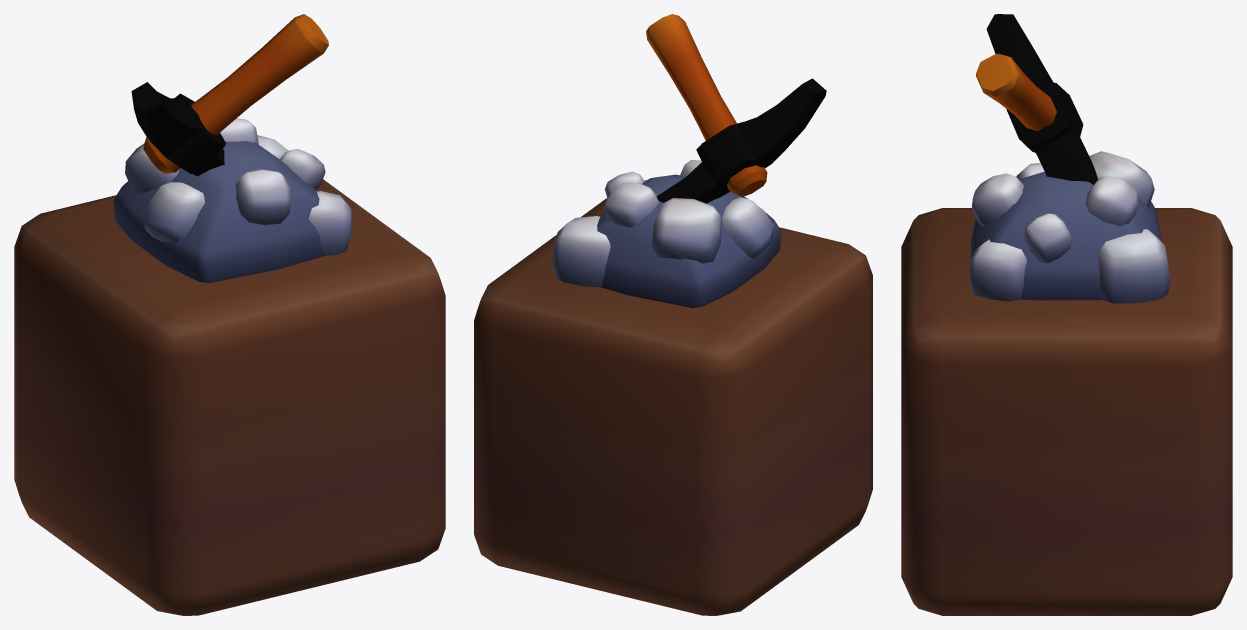
Rendered from block_silver_pickaxe.fbx.
The picture shows the model from 3 angles, left to right: view 1: azimuth 30°, elevation 25°; view 2: azimuth 150°, elevation 25°; view 3: azimuth 270°, elevation 25°; orthographic projection. The views are drawn at different scales.
Parts seen in each view (by area): view 1: block_silver_pile; view 2: block_silver_pile; view 3: block_silver_pile.
Part boxes in pixels (<box>): block_silver_pile: <box>14,14,445,615</box>; block_silver_pile: <box>474,14,872,615</box>; block_silver_pile: <box>901,14,1232,615</box>.
Size of the model in its own units: 200 by 351 by 200.
